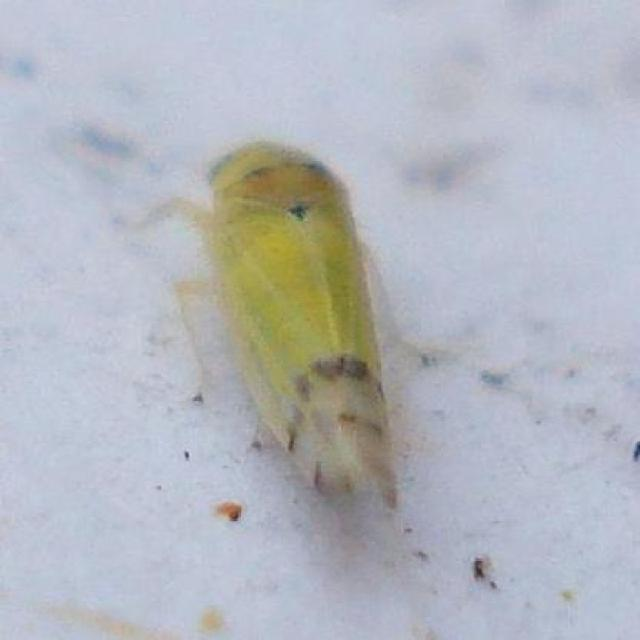green-leafhopper: (196, 141, 407, 510)
